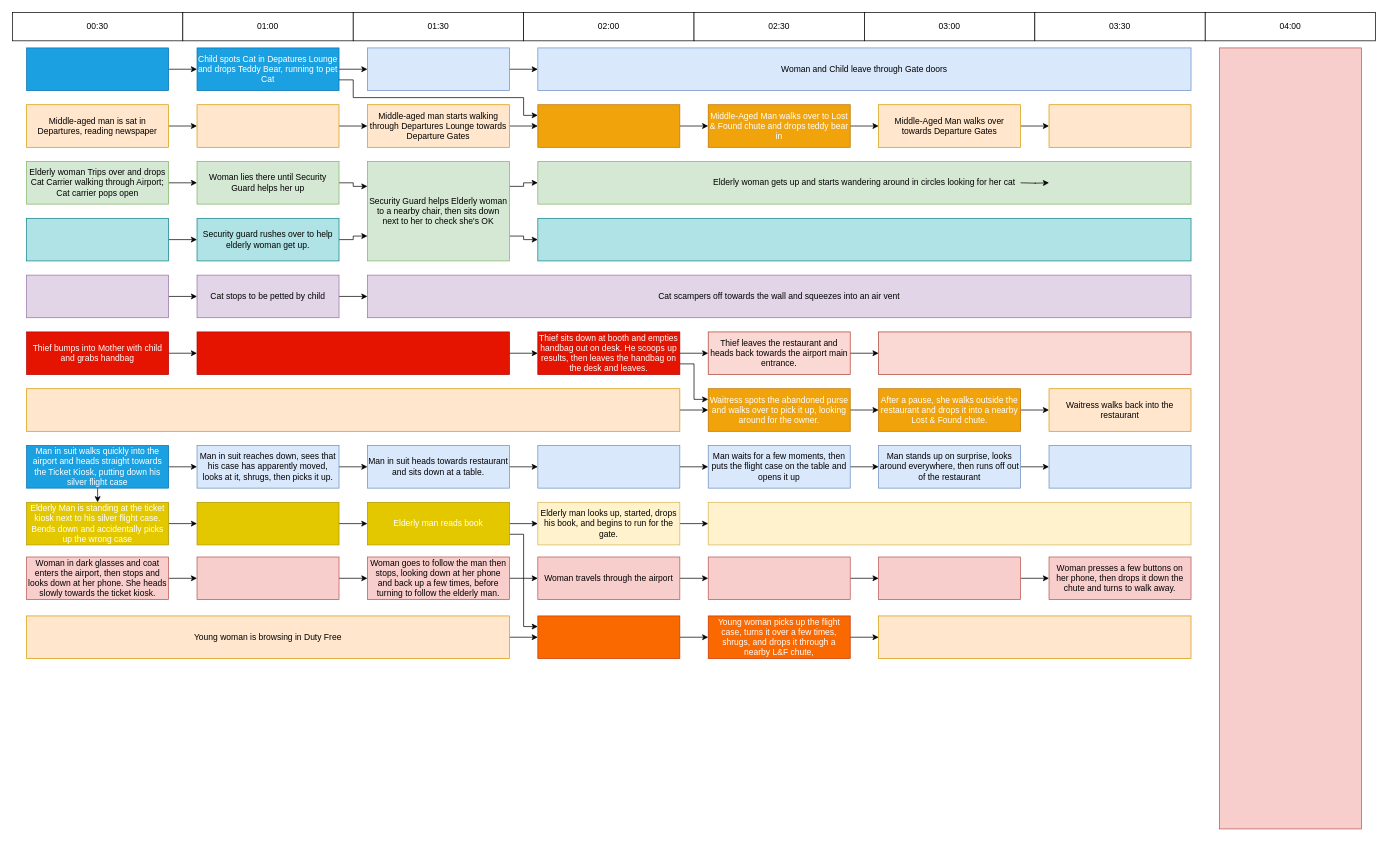
This 1388x841 diagram has some shape labels left out. The shapes that lost their labels are listed below. From the top down, each one's centre as x and y in pixels, then its label:
point 97,69: Child & Mother walking through Airport
point 438,69: Woman catches up with child, takes hand, pulls them away towards Departure Gates
point 267,125: Middle-aged man looks at watch, folds up newspaper, and stands up.
point 608,125: Middle-aged man stops to pick up Teddy Bear
point 1119,125: Middle-Aged Man leaves through Gate doors
point 97,239: Security guard is walking back through the airport from Departures Lounge
point 864,239: Security guard stands up, pauses, then also starts looking for the cat
point 97,296: Cat escapes carrier and runs off towards Departures Lounge
point 352,353: Thief walks back through the airport to the restaurant
point 1034,353: Thief leaves the airport
point 353,409: Waitress is walking around the restaurant, taking orders
point 1290,438: Lost & Found Explodes
point 608,466: Man in suit talks to waitress, ordering a drink
point 1119,466: Man runs back to the ticket kiosk area and looks around, panicked
point 267,523: Elderly Man walks into Duty Free and puts "his" case down. to pick up a book.
point 949,523: Elderly Man keeps running until he makes it all the way to the gate
point 267,578: Woman waits some distance away, occasionally looking down at her phone.
point 779,578: Woman arrives just in time to see the flight case dropped through the chute.
point 949,578: Woman talks on her phone for a few moments.
point 608,637: Young woman almost trips over the abandoned flight case.
point 1034,637: Young woman returns to browsing the duty free
